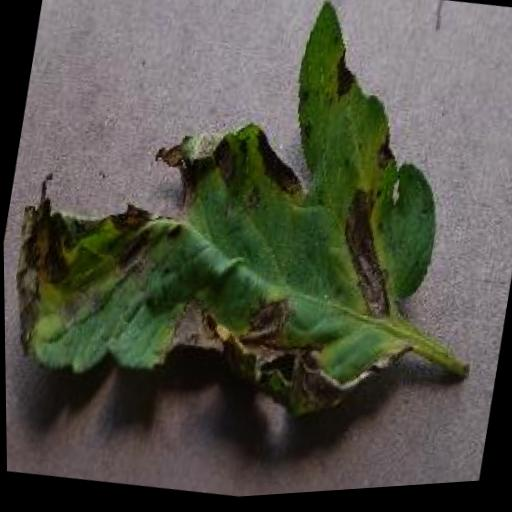Early Blight: (0, 0, 476, 445)
